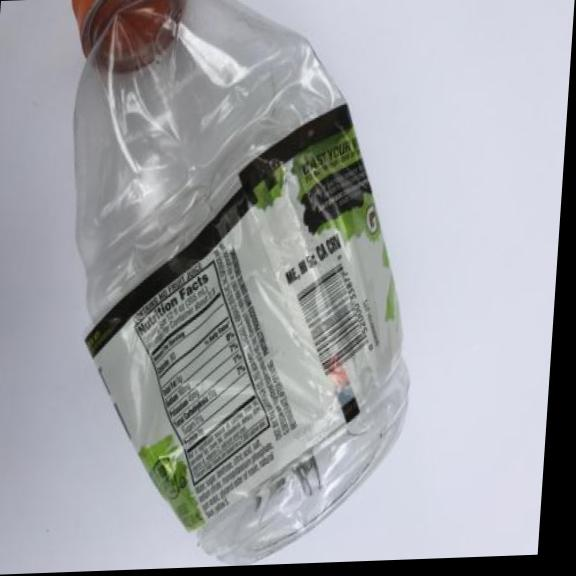Plastik: (29, 0, 438, 574)
